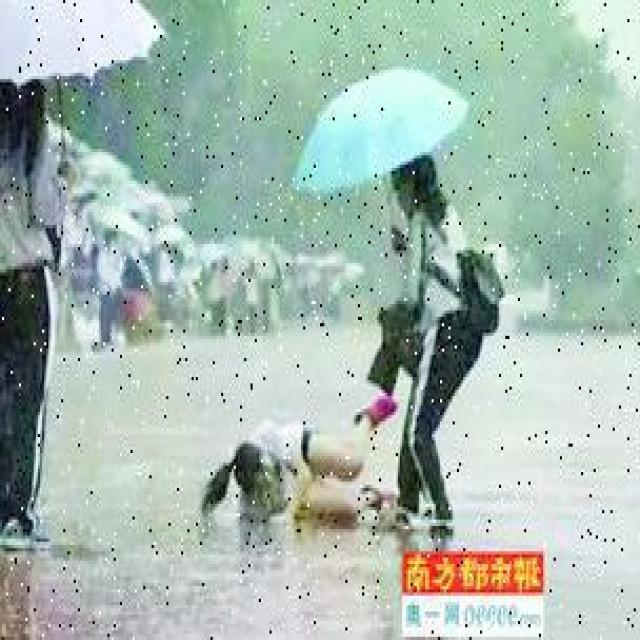fall: (208, 392, 400, 520)
